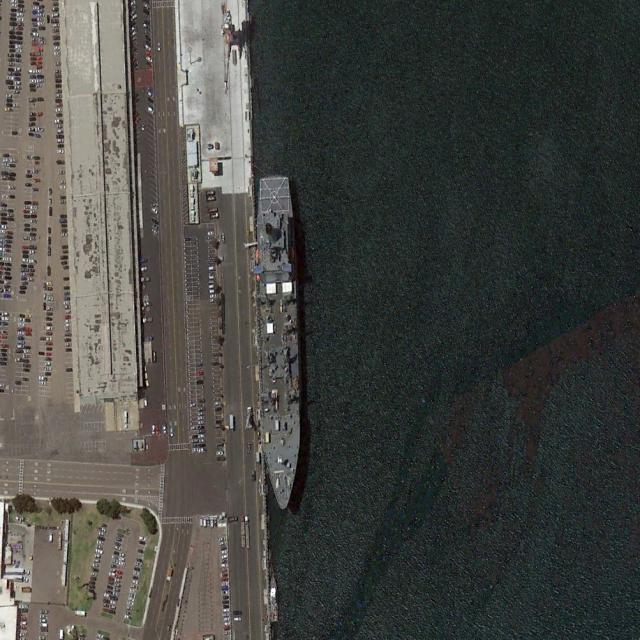Commander: (252, 173, 305, 513)
